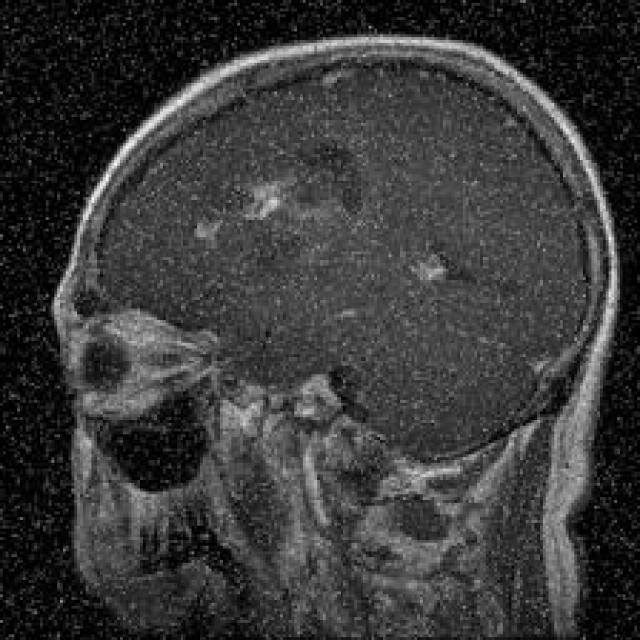glioma_tumor: (182, 141, 385, 288)
